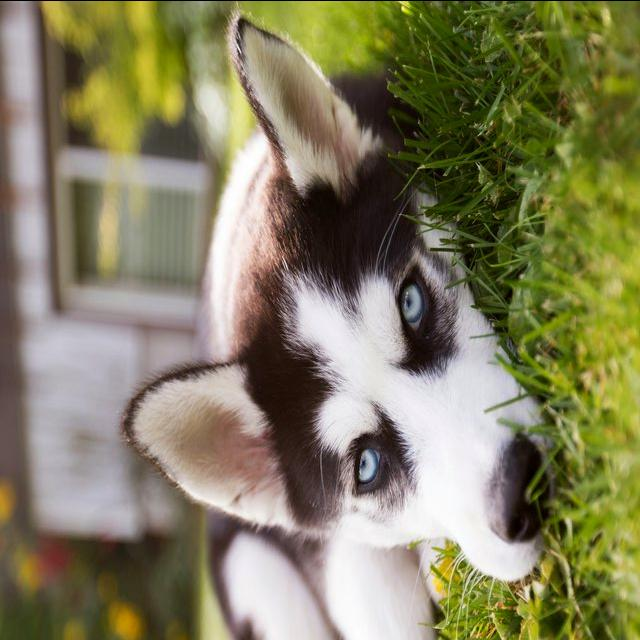husky: (118, 8, 560, 638)
